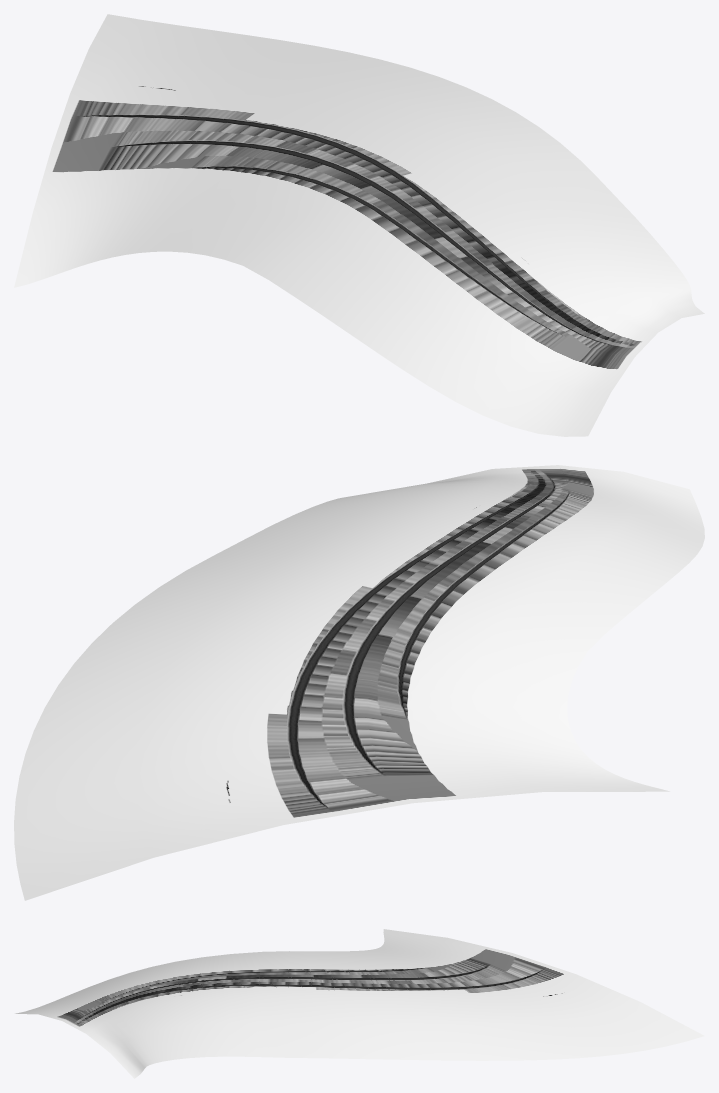
3 renders of one model, top to bottom at view 1: azimuth 30°, elevation 25°; view 2: azimuth 150°, elevation 25°; view 3: azimuth 270°, elevation 25°, orthographic. The views are drawn at different scales.
Parts seen in each view (by area): view 1: Plane003; view 2: Plane003; view 3: Plane003.
Part boxes in pixels (x1,y1,x2,y2): Plane003: (14, 14, 704, 436); Plane003: (14, 465, 704, 900); Plane003: (15, 929, 704, 1078).
Bounding box in the file's own units: 706 × 98.7 × 1313.
